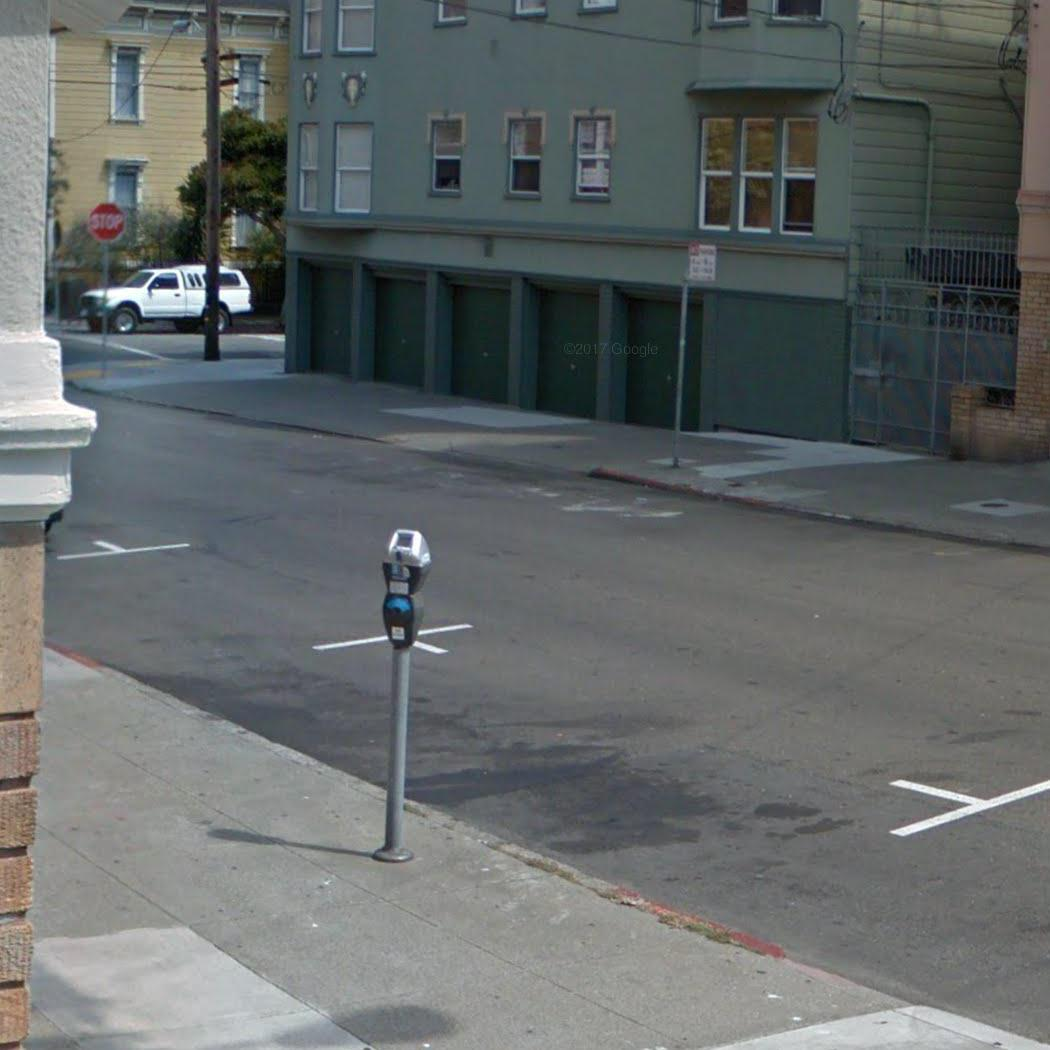No Parking: (686, 241, 719, 285)
